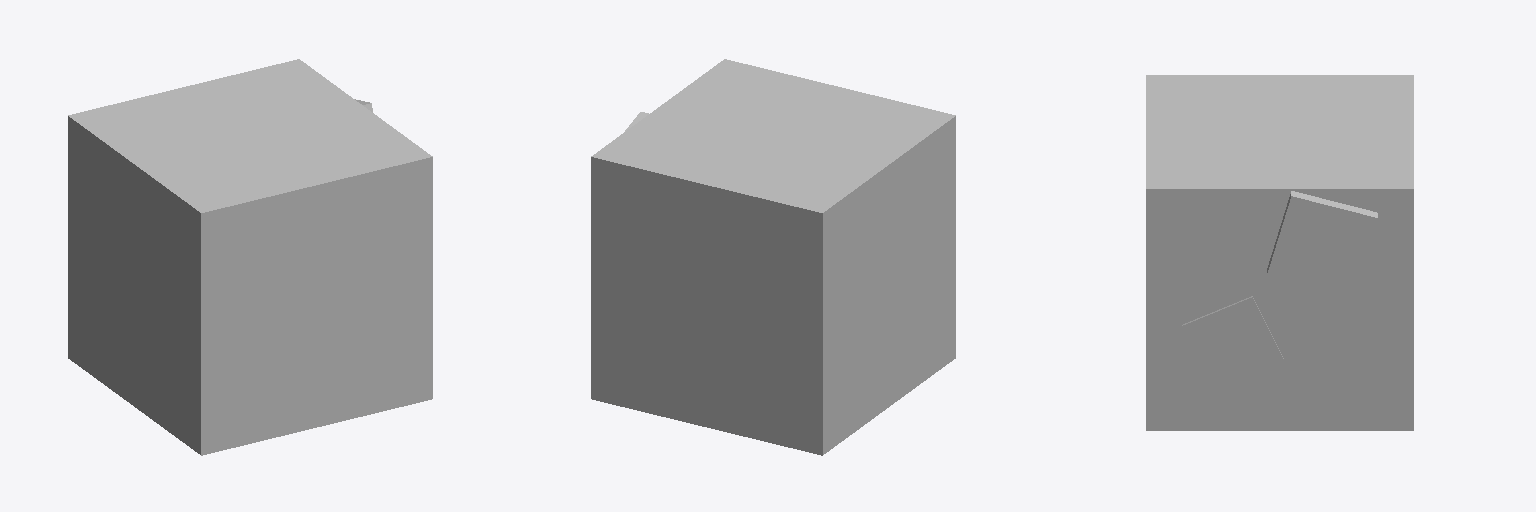
The model's file is Cornell box.obj.
3 renders of one model, left to right at view 1: azimuth 30°, elevation 25°; view 2: azimuth 150°, elevation 25°; view 3: azimuth 270°, elevation 25°, orthographic.
Visible parts, largest first — view 1: Cube.001_Cube.002; view 2: Cube.001_Cube.002; view 3: Cube.001_Cube.002.
Part boxes in pixels (x1,y1,x2,y2): Cube.001_Cube.002: (68, 59, 432, 455); Cube.001_Cube.002: (591, 59, 955, 455); Cube.001_Cube.002: (1146, 75, 1413, 430).
Bounding box in the file's own units: 2.1 × 2 × 2.